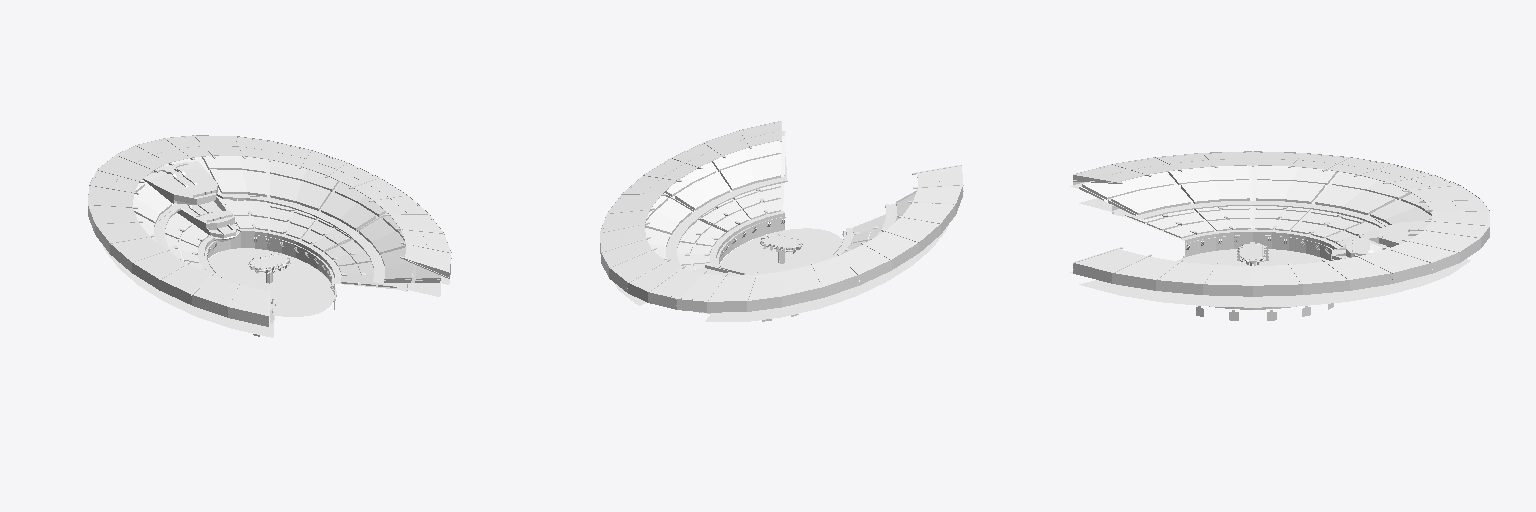
File: Stadium.obj
3 views of the same model, side by side, from view 1: azimuth 30°, elevation 25°; view 2: azimuth 150°, elevation 25°; view 3: azimuth 270°, elevation 25° (orthographic).
Parts seen in each view (by area): view 1: polygon65, polygon90, polygon54, polygon45, polygon67, polygon2, polygon63, polygon66, polygon37, polygon62, polygon51, polygon52; view 2: polygon90, polygon65, polygon54, polygon66, polygon67, polygon45, polygon37, polygon63, polygon62; view 3: polygon65, polygon90, polygon54, polygon66, polygon67, polygon63, polygon37, polygon45, polygon2, polygon62, polygon52.
Part boxes in pixels (x1,y1,x2,y2): polygon65: (133,156,440,285); polygon90: (90,137,448,314); polygon54: (102,170,449,337); polygon45: (208,248,333,316); polygon67: (88,136,450,315); polygon2: (144,157,272,283); polygon63: (134,157,440,319); polygon66: (88,135,450,326); polygon37: (88,135,451,322); polygon62: (161,193,378,305); polygon51: (143,179,236,234); polygon52: (142,157,411,322); polygon90: (602,122,960,300); polygon65: (645,140,915,270); polygon54: (615,131,948,321); polygon66: (600,121,962,312); polygon67: (600,121,962,301); polygon45: (720,228,842,274); polygon37: (600,121,963,308); polygon63: (645,132,916,265); polygon62: (673,179,889,267); polygon65: (1084,165,1431,245); polygon90: (1076,152,1487,284); polygon54: (1070,165,1470,309); polygon66: (1073,151,1489,296); polygon67: (1076,152,1489,285); polygon63: (1079,165,1431,246); polygon37: (1073,151,1489,316); polygon45: (1177,249,1328,265); polygon2: (1250,221,1429,265); polygon62: (1141,203,1384,248); polygon52: (1104,166,1400,238).
Size of the model in its own units: 664 by 188 by 878.